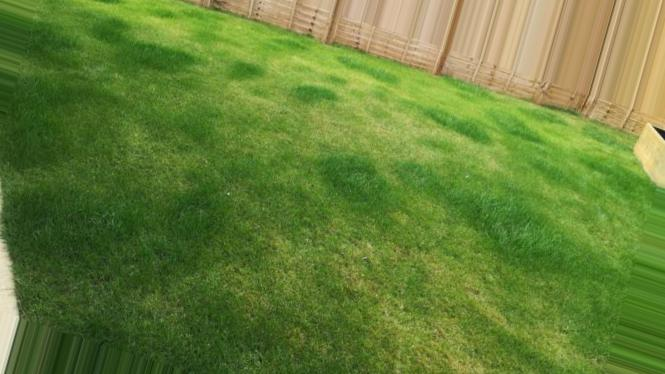patch: (337, 112, 398, 148), (409, 82, 457, 103), (444, 323, 468, 352), (309, 111, 324, 133), (253, 105, 272, 118)
